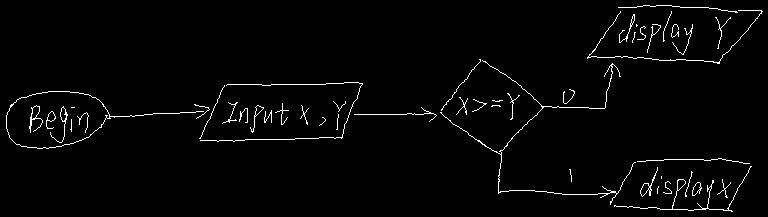arrow: (498, 152, 615, 197), (543, 63, 620, 108), (107, 104, 209, 118), (354, 107, 436, 121)
data: (587, 5, 762, 63), (199, 82, 362, 141), (610, 158, 751, 211)
decision: (440, 59, 543, 155)
terminator: (6, 91, 110, 148)
text: (619, 11, 730, 54), (222, 101, 345, 132), (640, 167, 730, 209), (29, 105, 88, 142), (456, 93, 519, 119), (563, 89, 574, 103), (569, 169, 572, 181)
